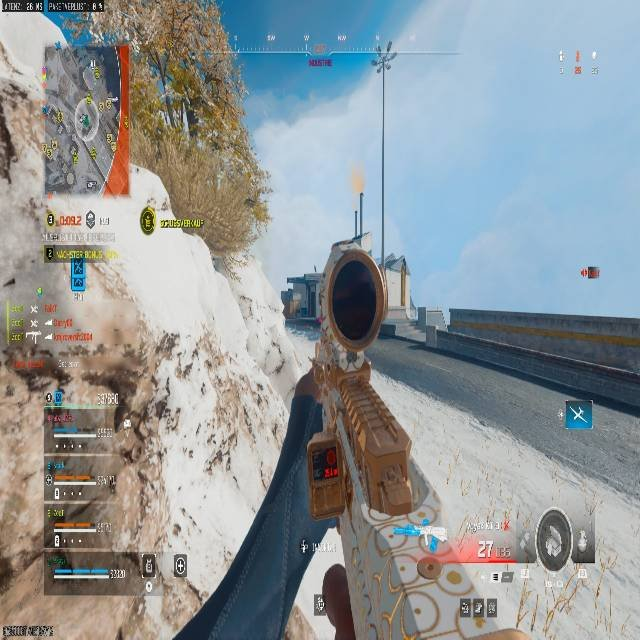head: (327, 262, 385, 344), (534, 509, 574, 568)
